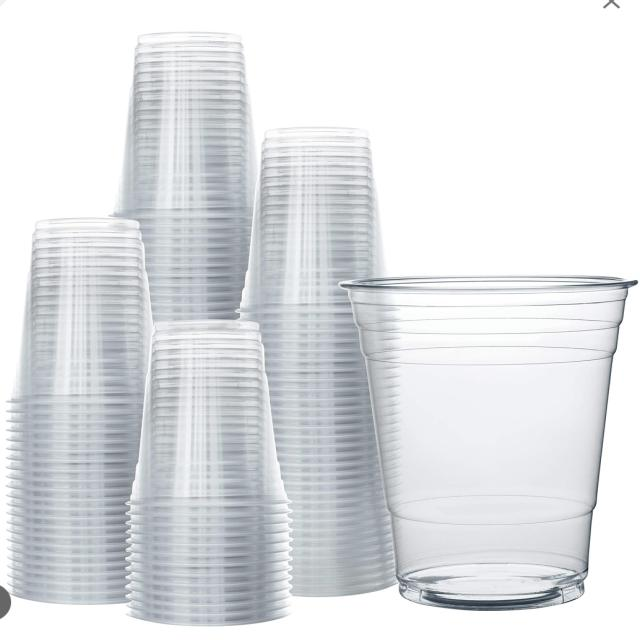recyclable: (334, 230, 632, 640), (11, 190, 170, 602)
